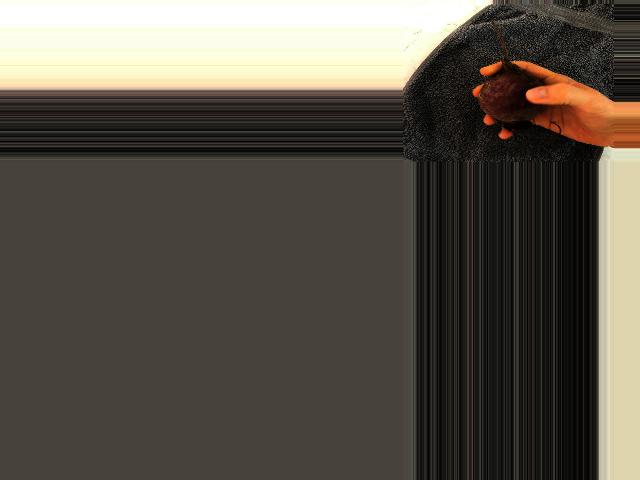beet: (477, 19, 546, 129)
